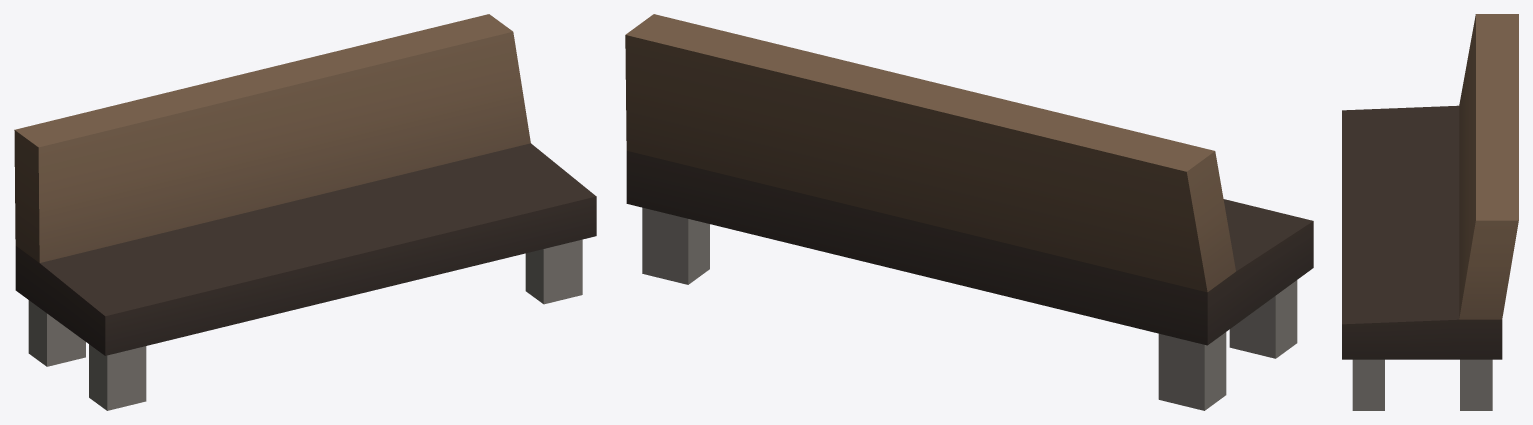
Rendered from Bench_1.fbx.
3 renders of one model, left to right at view 1: azimuth 30°, elevation 25°; view 2: azimuth 150°, elevation 25°; view 3: azimuth 270°, elevation 25°, orthographic. The views are drawn at different scales.
Visible parts, largest first — view 1: Bench_1; view 2: Bench_1; view 3: Bench_1.
Part boxes in pixels (x1,y1,x2,y2): Bench_1: [14, 14, 596, 410]; Bench_1: [625, 14, 1313, 410]; Bench_1: [1342, 14, 1518, 410].
Size of the model in its own units: 354 by 147 by 124.
